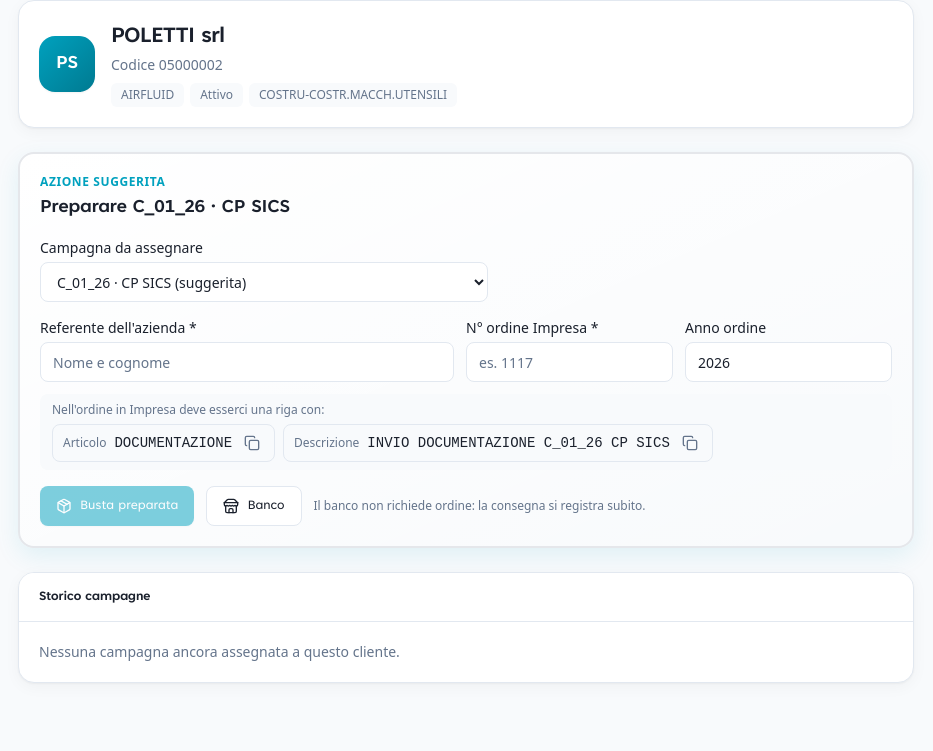
scheda cliente › invia la busta con i dati inseriti e ricarica la pagina
Type "Mario Rossi" into the field with placeholder "Nome e cognome" at (247, 362), box [40,342,454,382]
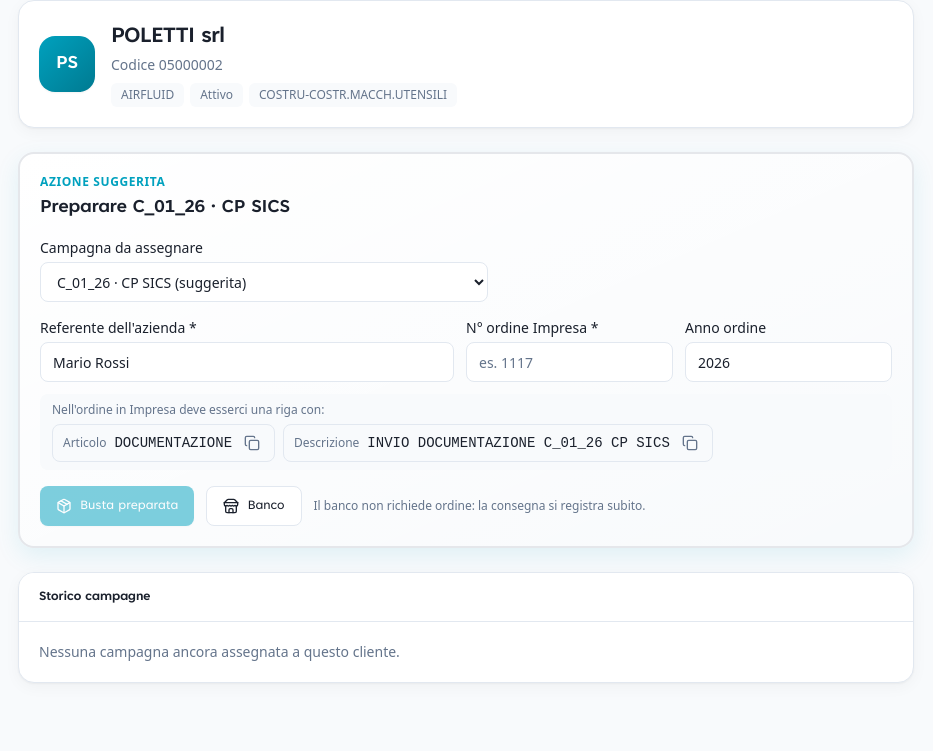
Type "1117" into the field with placeholder "es. 1117" at (570, 362), box [466,342,673,382]
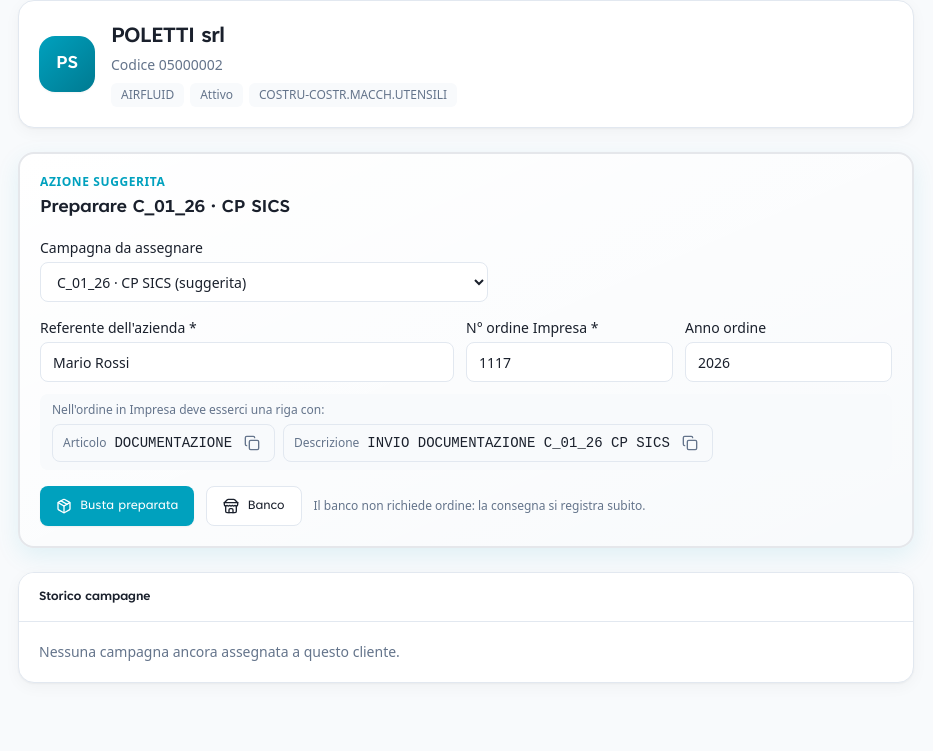
Click the button "Busta preparata" at (117, 506), box [40,486,194,526]
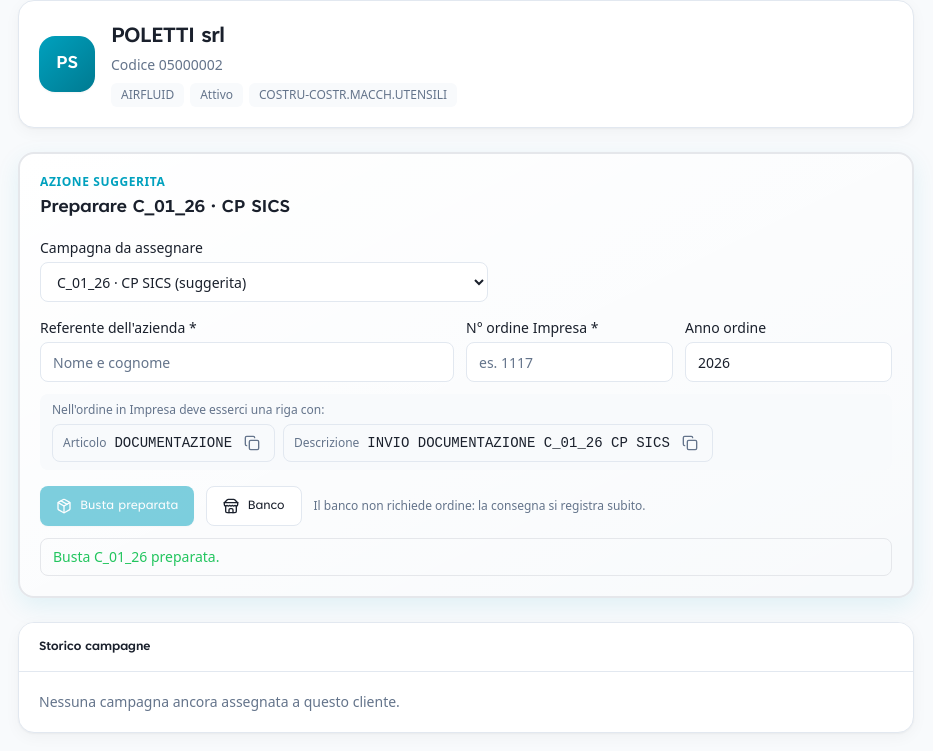
Check: the text "Busta C_01_26 preparata." is shown, box [40,538,892,576]
